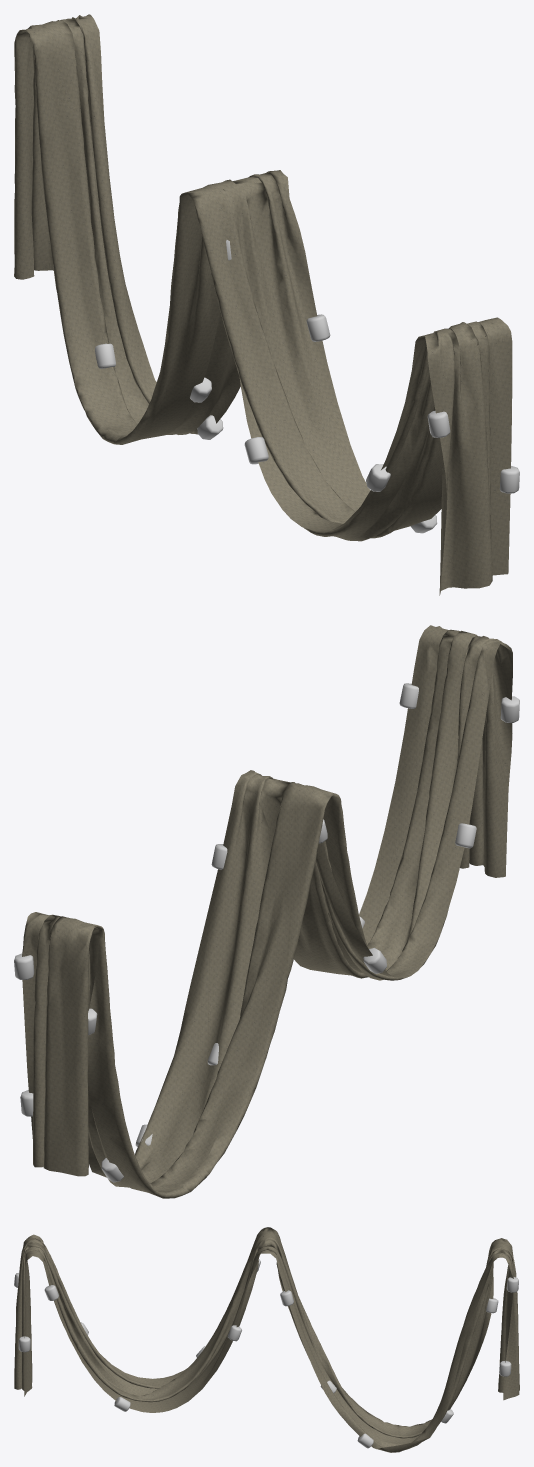
File: SM_Fish_net_6_01.fbx
3 renders of one model, top to bottom at view 1: azimuth 30°, elevation 25°; view 2: azimuth 150°, elevation 25°; view 3: azimuth 270°, elevation 25°, orthographic. The views are drawn at different scales.
Parts seen in each view (by area): view 1: SM_Fish_net_6_01_LOD0; view 2: SM_Fish_net_6_01_LOD0; view 3: SM_Fish_net_6_01_LOD0.
Part boxes in pixels (<box>): SM_Fish_net_6_01_LOD0: <box>14,14,519,595</box>; SM_Fish_net_6_01_LOD0: <box>14,625,519,1198</box>; SM_Fish_net_6_01_LOD0: <box>14,1227,519,1452</box>.
Bounding box in the file's own units: 57.49 × 373 × 161.
